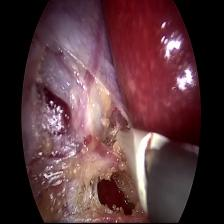Hook: (111, 123, 169, 206)
